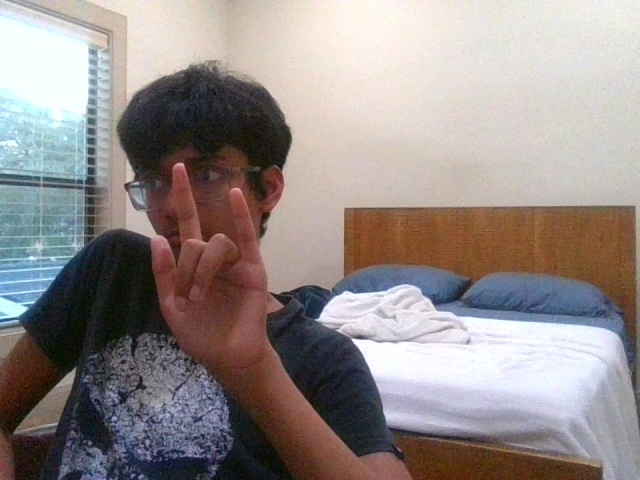ly: (150, 162, 268, 364)
